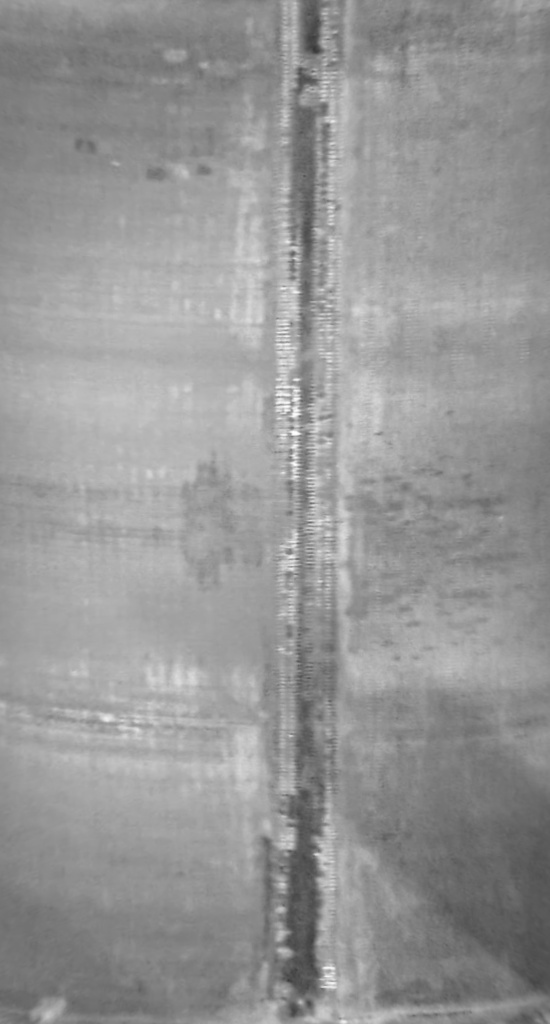splice: (262, 1, 365, 1023)
